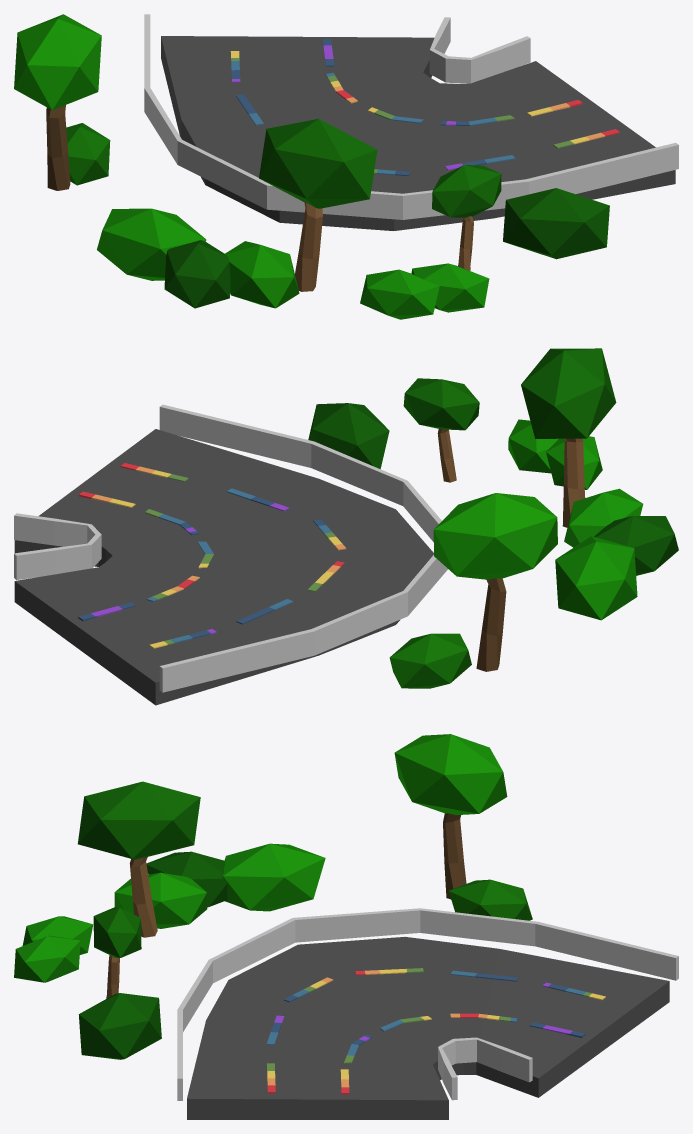
The model's file is highway_01_4.fbx.
The picture shows the model from 3 angles, top to bottom: view 1: azimuth 30°, elevation 25°; view 2: azimuth 150°, elevation 25°; view 3: azimuth 270°, elevation 25°; orthographic projection. The views are drawn at different scales.
Parts seen in each view (by area): view 1: autobahn01.006, leitPlankOutside.006, tree, Icosphere.012, bushLarge, bushMedium, bushMedium.001, bushSmall.001, treeSmall, leitPlankInside.006, bushSmall.002, Icosphere.019 (+2 smaller); view 2: autobahn01.006, leitPlankOutside.006, tree, Icosphere.012, bushMedium, leitPlankInside.006, treeSmall, bushLarge, bushSmall, bushSmall.001, bushMedium.001, Icosphere.019 (+2 smaller); view 3: autobahn01.006, leitPlankOutside.006, tree, Icosphere.012, bushMedium, bushLarge, bushMedium.001, leitPlankInside.006, bushSmall, treeSmall, Icosphere.019, bushSmall.001 (+2 smaller).
Boxes of the visible parts, x1,y1,x2,y2 form: autobahn01.006: (161, 36, 675, 230); leitPlankOutside.006: (144, 14, 678, 219); tree: (14, 14, 101, 190); Icosphere.012: (259, 118, 377, 208); bushLarge: (503, 188, 609, 259); bushMedium: (97, 208, 206, 280); bushMedium.001: (225, 241, 299, 308); bushSmall.001: (164, 240, 230, 308); treeSmall: (432, 165, 501, 270); leitPlankInside.006: (429, 17, 530, 83); bushSmall.002: (360, 269, 439, 319); Icosphere.019: (411, 263, 489, 312); autobahn01.006: (14, 429, 433, 705); leitPlankOutside.006: (159, 404, 447, 692); tree: (433, 493, 557, 671); Icosphere.012: (521, 348, 616, 438); bushMedium: (555, 536, 637, 620); leitPlankInside.006: (14, 513, 101, 579); treeSmall: (403, 378, 479, 482); bushLarge: (308, 403, 389, 468); bushSmall: (389, 633, 471, 688); bushSmall.001: (594, 516, 678, 575); bushMedium.001: (564, 488, 643, 547); Icosphere.019: (508, 419, 558, 473); autobahn01.006: (187, 936, 669, 1119); leitPlankOutside.006: (177, 908, 678, 1100); tree: (394, 734, 507, 899); Icosphere.012: (77, 781, 200, 859); bushMedium: (222, 843, 325, 911); bushLarge: (78, 993, 161, 1059); bushMedium.001: (114, 872, 207, 928); leitPlankInside.006: (438, 1037, 532, 1100); bushSmall: (448, 879, 532, 920); treeSmall: (93, 907, 141, 998); Icosphere.019: (14, 935, 80, 982); bushSmall.001: (146, 851, 227, 907).
Size of the model in its own units: 83.64 by 29.13 by 98.22.
